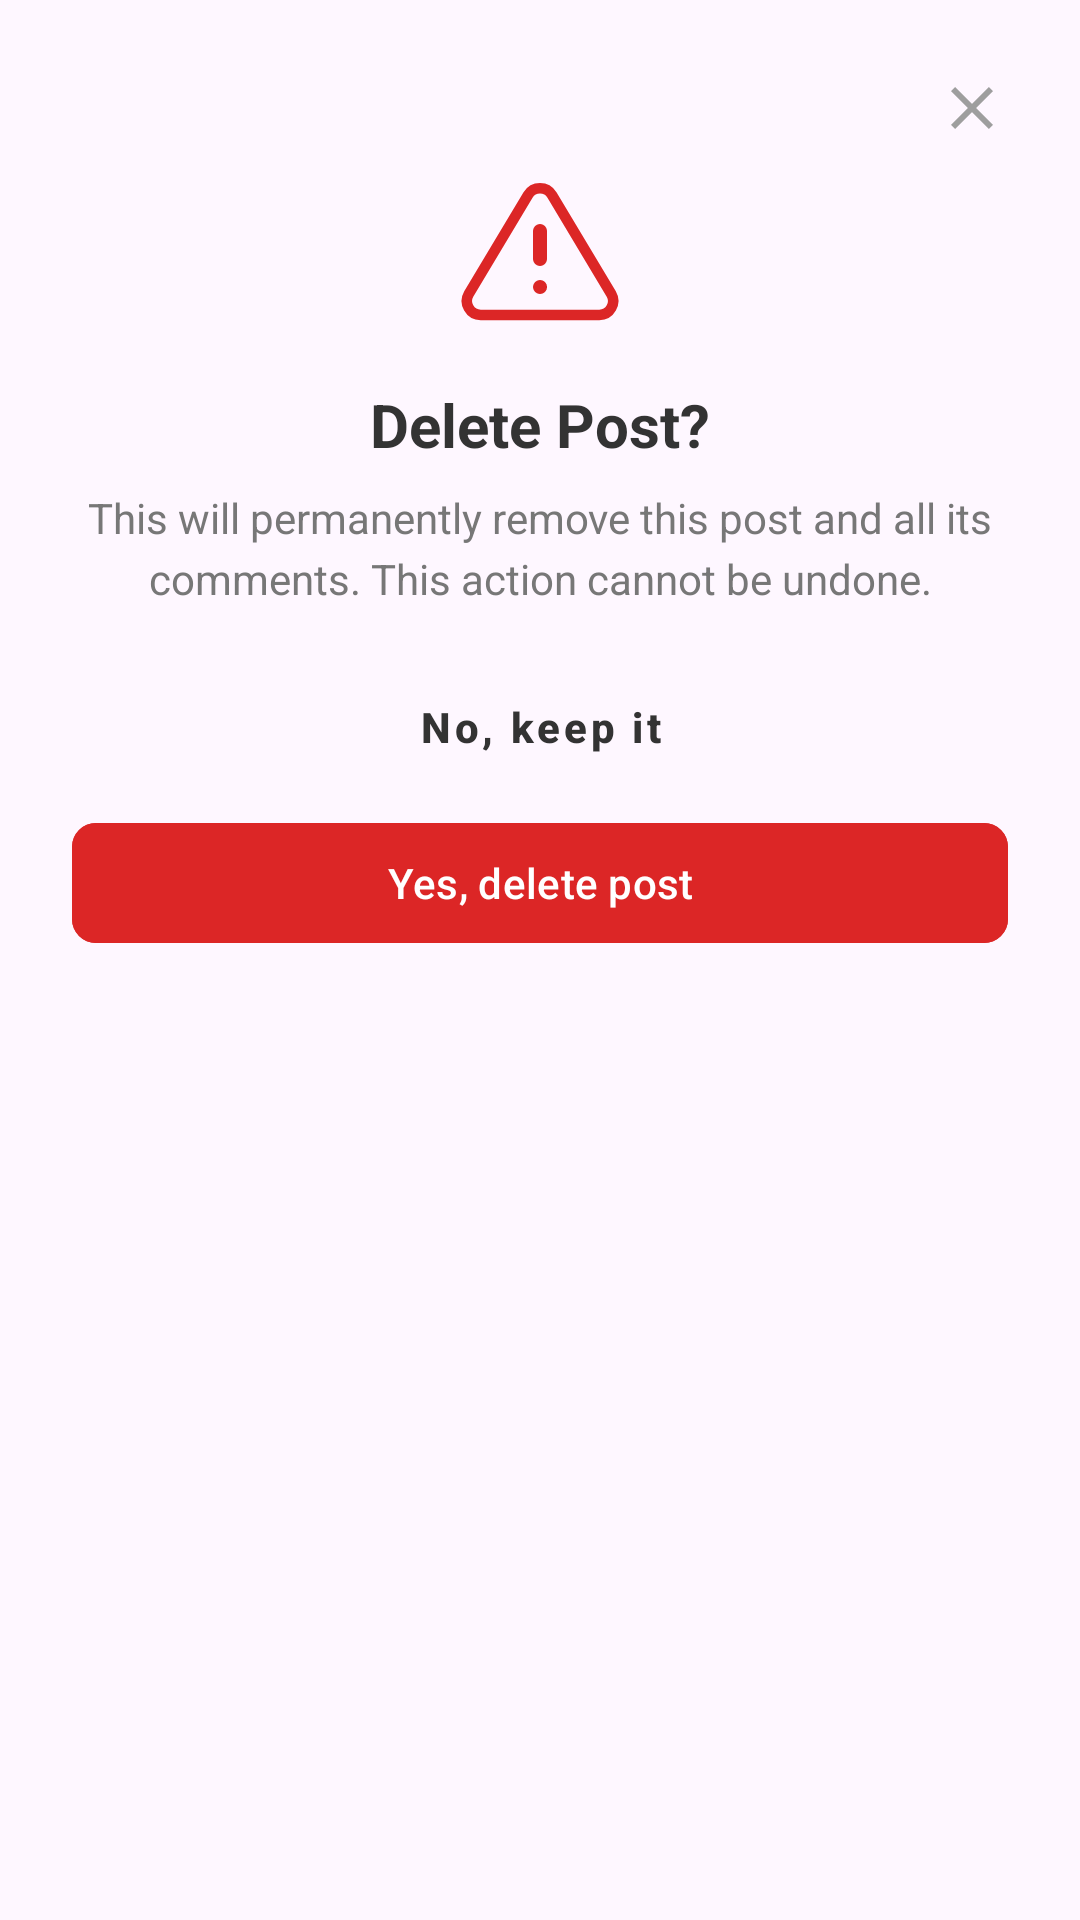

Screen size 1080×1920. Icon name, then its center in pixels as (x,y):
Close: (972,108)
Warning: (540,252)
